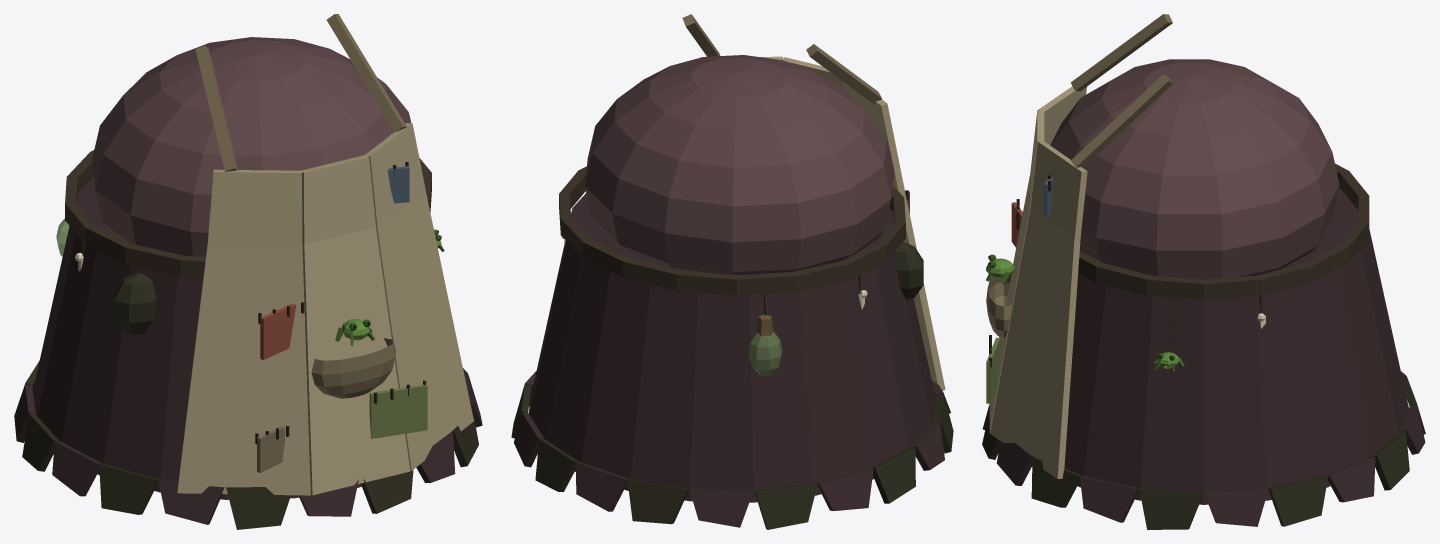
The model's file is granny_mirewhistle_apron.glb.
3 renders of one model, left to right at view 1: azimuth 30°, elevation 25°; view 2: azimuth 150°, elevation 25°; view 3: azimuth 270°, elevation 25°, orthographic. The views are drawn at different scales.
Parts seen in each view (by area): view 1: granny_mirewhistle_apron; view 2: granny_mirewhistle_apron; view 3: granny_mirewhistle_apron.
Boxes of the visible parts, x1,y1,x2,y2 form: granny_mirewhistle_apron: (14,14,482,529); granny_mirewhistle_apron: (511,14,953,529); granny_mirewhistle_apron: (982,14,1425,529).
Size of the model in its own units: 1.24 by 1.23 by 1.24.
